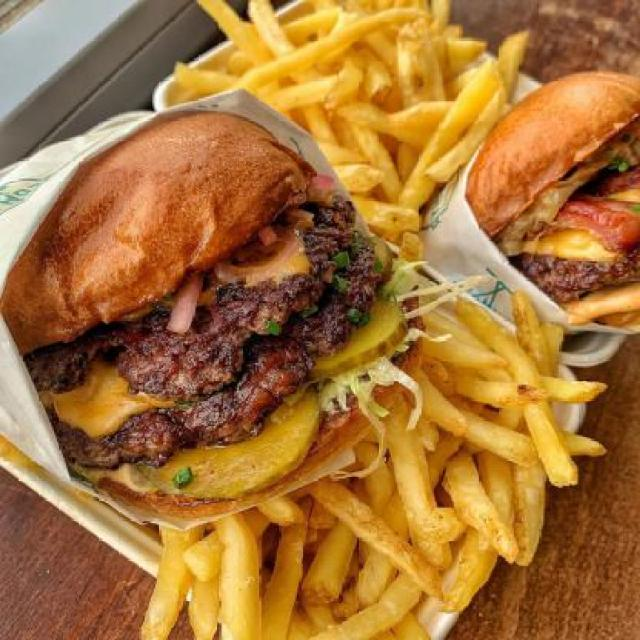french fries: (326, 299, 586, 639)
hamburger: (0, 114, 357, 512)
